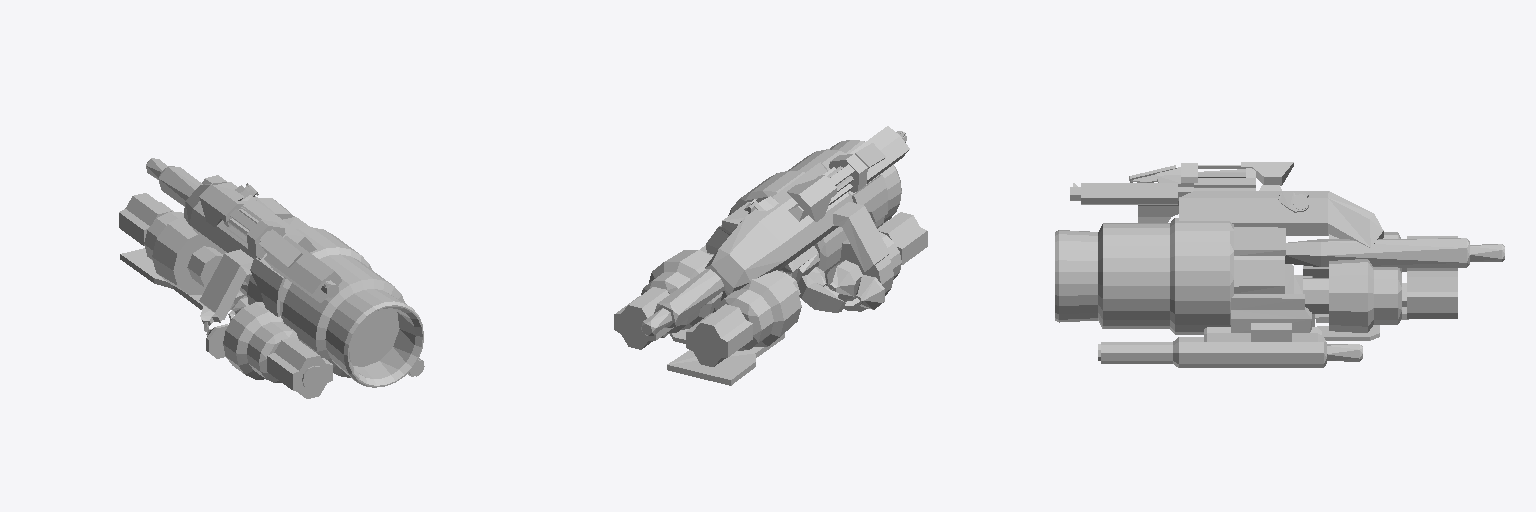
Rendered from rigged_cannon.obj.
3 renders of one model, left to right at view 1: azimuth 30°, elevation 25°; view 2: azimuth 150°, elevation 25°; view 3: azimuth 270°, elevation 25°, orthographic.
Parts seen in each view (by area): view 1: BumbleBee_Cannondmx; view 2: BumbleBee_Cannondmx; view 3: BumbleBee_Cannondmx.
Boxes of the visible parts, x1,y1,x2,y2 form: BumbleBee_Cannondmx: [119, 158, 424, 398]; BumbleBee_Cannondmx: [614, 126, 927, 385]; BumbleBee_Cannondmx: [1055, 162, 1504, 367].
Size of the model in its own units: 0.3804 by 0.3355 by 0.9044.